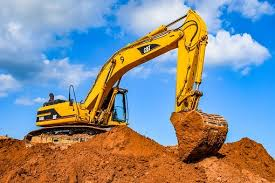excavator: (23, 9, 227, 161)
